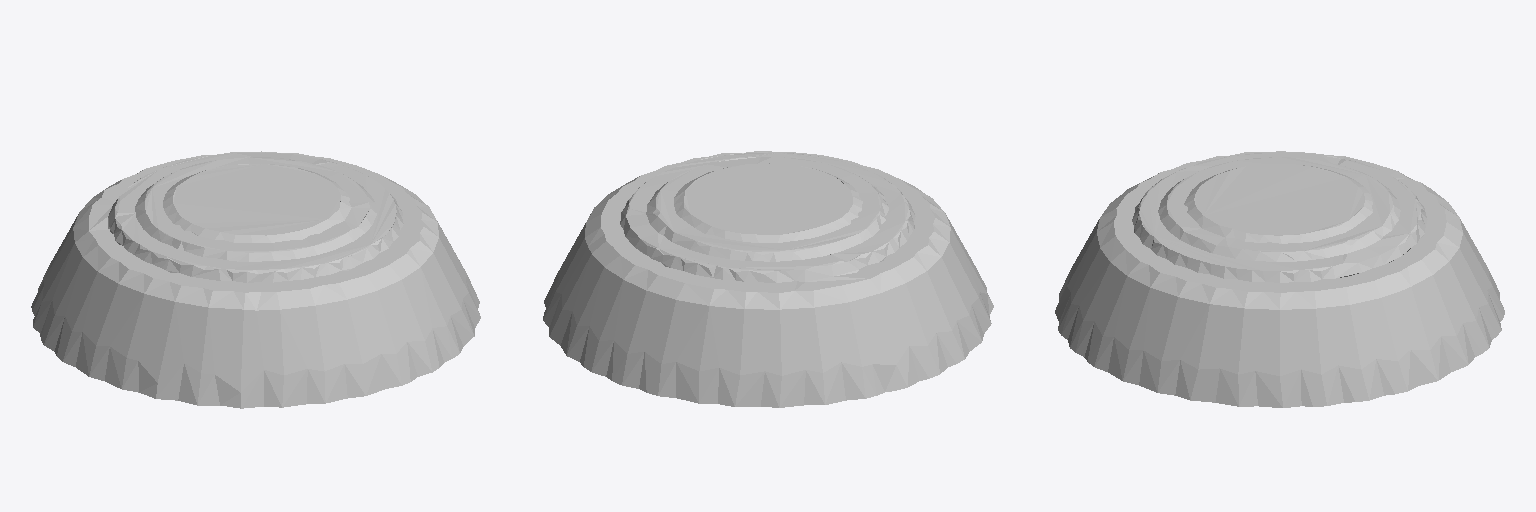
File: platform.obj
3 renders of one model, left to right at view 1: azimuth 30°, elevation 25°; view 2: azimuth 150°, elevation 25°; view 3: azimuth 270°, elevation 25°, orthographic.
Visible parts, largest first — view 1: Cone; view 2: Cone; view 3: Cone.
Boxes of the visible parts, x1=… form: Cone: x1=31, y1=151, x2=480, y2=408; Cone: x1=543, y1=151, x2=993, y2=407; Cone: x1=1055, y1=151, x2=1504, y2=407.
Bounding box in the file's own units: 1.98 × 0.5529 × 1.98.